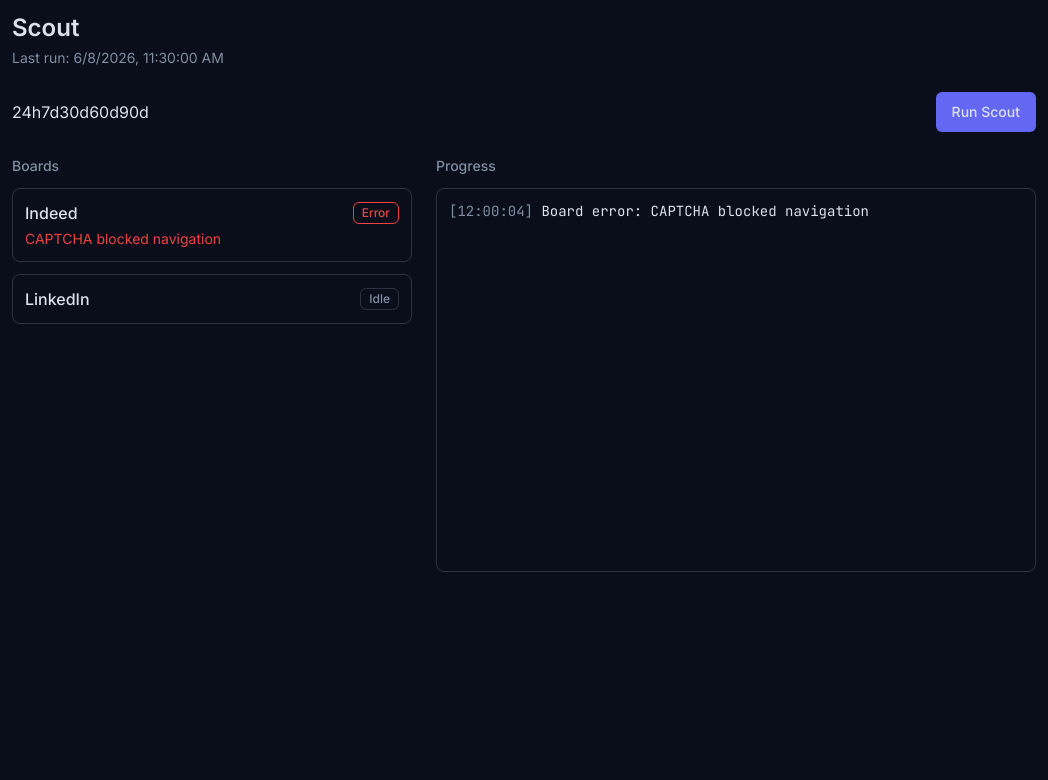
Scenario: ScoutScreen › shows inline board error from progress log and scraper result
This screenshot has width=1048, height=780.
Expected: the heading "Scout" is shown, [12,13,79,42]
Expected: the text with test id "board-error-1" reads "CAPTCHA blocked navigation", [25,230,221,247]
Step 1. Click the button "Run Scout" → (986, 112), box [936,92,1036,132]
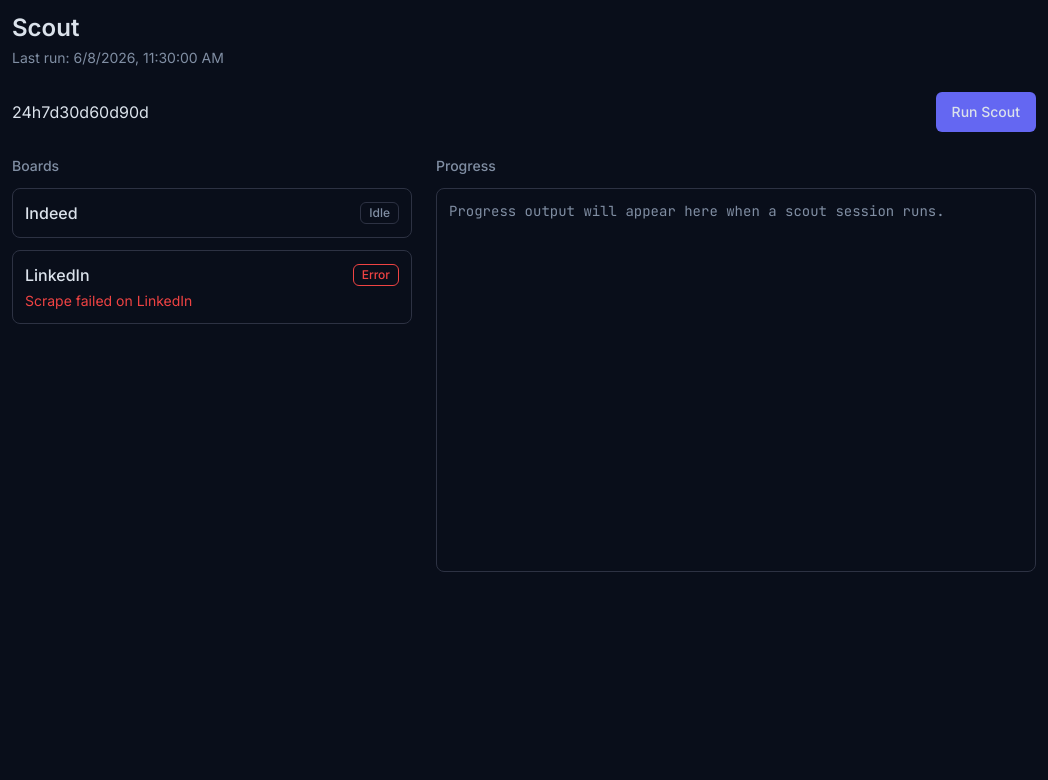
Expected: the text with test id "board-error-2" reads "Scrape failed on LinkedIn", [25,292,192,309]
